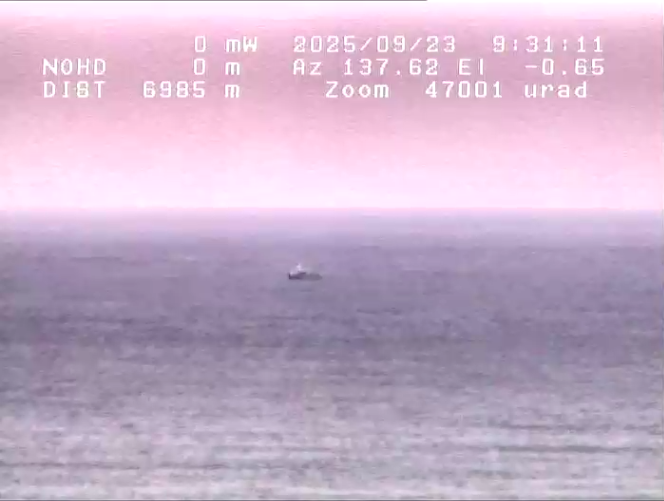TUGS: (279, 260, 323, 285)
